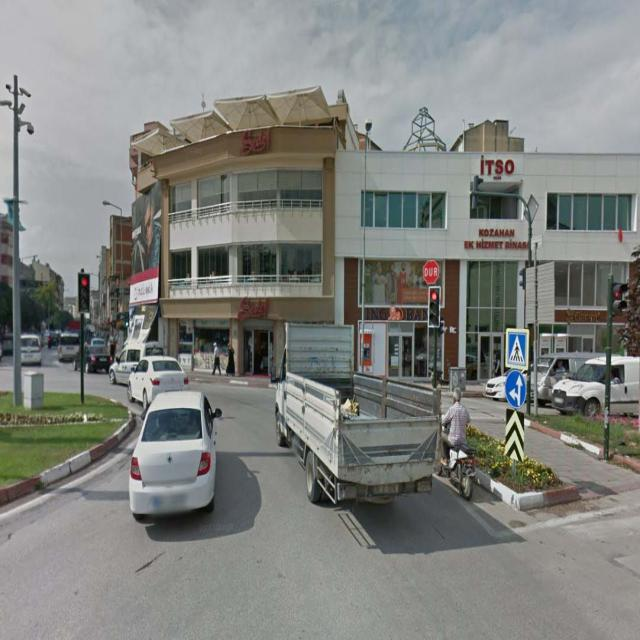dur: (422, 260, 438, 286)
ilerisol: (506, 370, 526, 408)
kirmizi: (78, 270, 88, 311), (428, 288, 439, 324)
